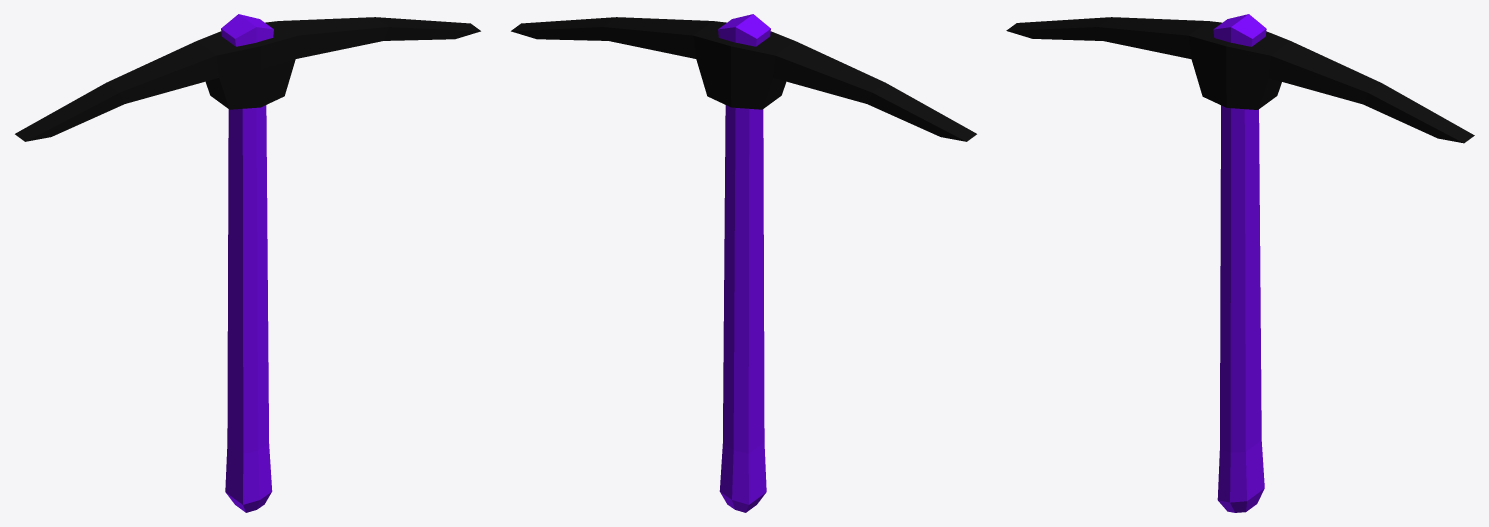
The model's file is Kazma.FBX.
The picture shows the model from 3 angles, left to right: view 1: azimuth 30°, elevation 25°; view 2: azimuth 150°, elevation 25°; view 3: azimuth 330°, elevation 25°; orthographic projection.
Visible parts, largest first — view 1: Axe; view 2: Axe; view 3: Axe.
Boxes of the visible parts, x1=… form: Axe: x1=15, y1=14, x2=480, y2=512; Axe: x1=511, y1=14, x2=976, y2=512; Axe: x1=1006, y1=14, x2=1474, y2=512.
Bounding box in the file's own units: 45.34 × 46.2 × 4.71.
